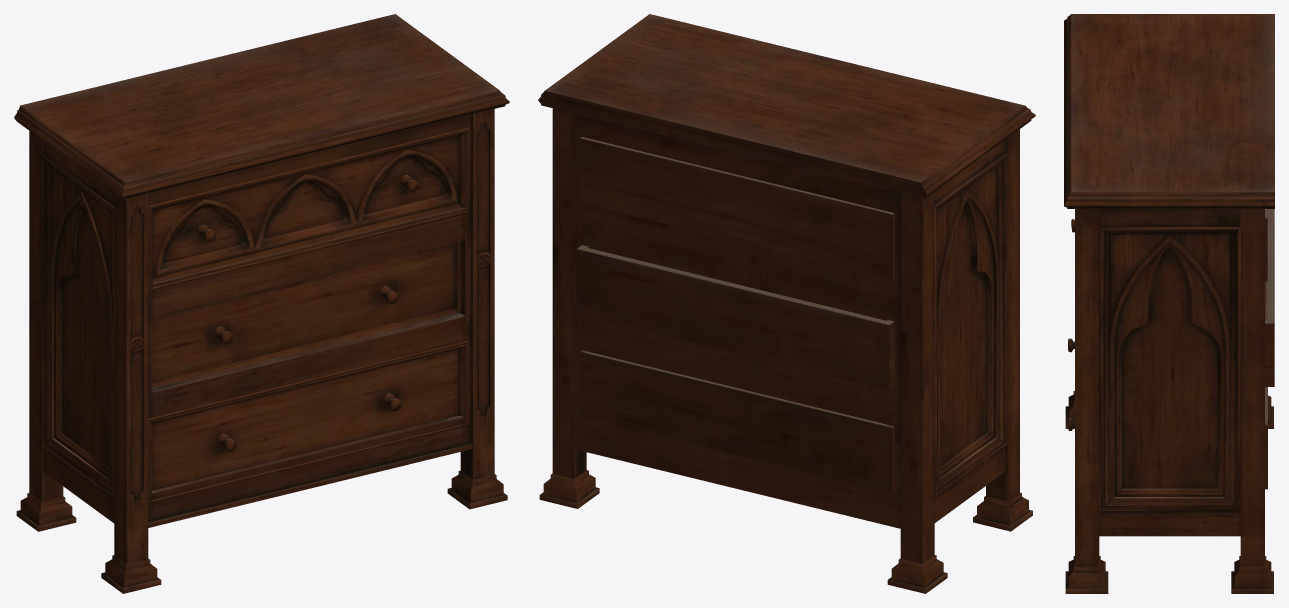
File: GothicCommode_01.glb
The picture shows the model from 3 angles, left to right: view 1: azimuth 30°, elevation 25°; view 2: azimuth 150°, elevation 25°; view 3: azimuth 270°, elevation 25°; orthographic projection. The views are drawn at different scales.
Visible parts, largest first — view 1: GothicCommode_01; view 2: GothicCommode_01; view 3: GothicCommode_01.
Part boxes in pixels (box(x1,y1,x2,y2)): GothicCommode_01: box(14, 14, 509, 593); GothicCommode_01: box(538, 14, 1035, 593); GothicCommode_01: box(1064, 14, 1274, 593).
Size of the model in its own units: 1.2 by 1.21 by 0.5806.
1 material, 1 textured.
